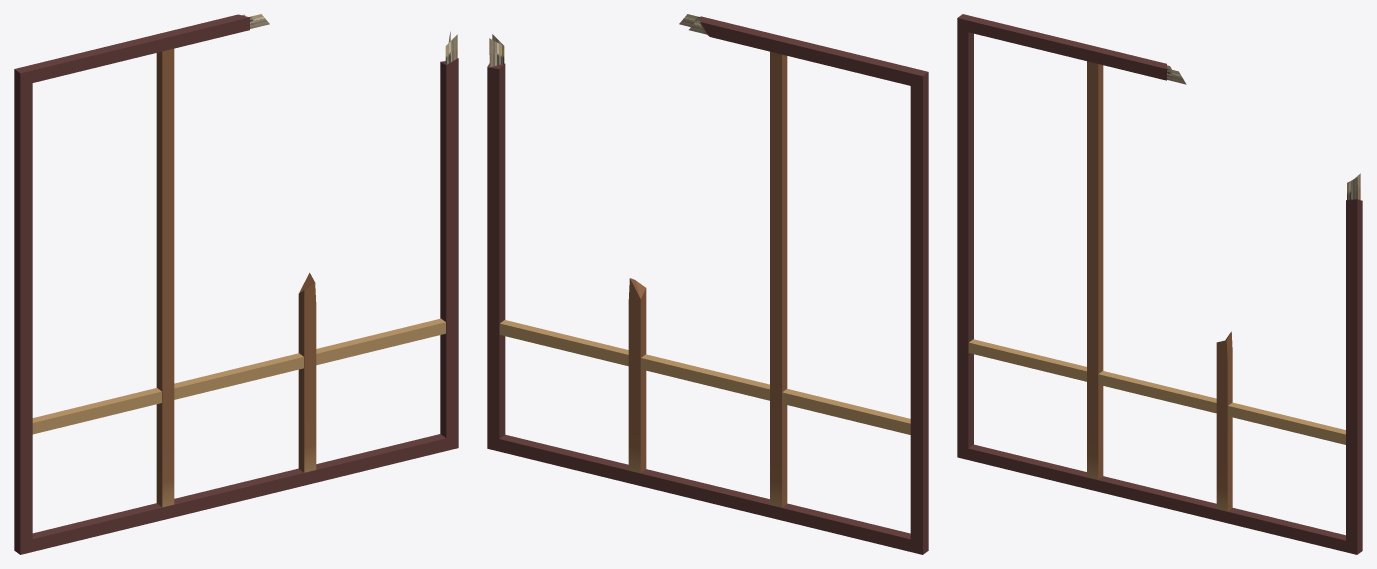
The model's file is DBK_WinBig_Wood_90.fbx.
3 renders of one model, left to right at view 1: azimuth 30°, elevation 25°; view 2: azimuth 150°, elevation 25°; view 3: azimuth 330°, elevation 25°, orthographic. The views are drawn at different scales.
Parts seen in each view (by area): view 1: DBK_WinBig_Wood_90; view 2: DBK_WinBig_Wood_90; view 3: DBK_WinBig_Wood_90.
Boxes of the visible parts, bbox=[...] form: DBK_WinBig_Wood_90: bbox=[14, 14, 458, 554]; DBK_WinBig_Wood_90: bbox=[487, 14, 928, 554]; DBK_WinBig_Wood_90: bbox=[957, 14, 1362, 554].
Bounding box in the file's own units: 200 × 210 × 4.75.
